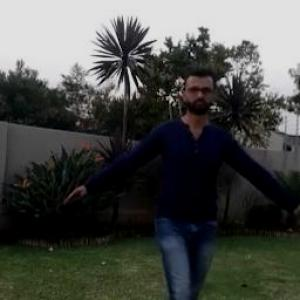land: (102, 96, 254, 284)
